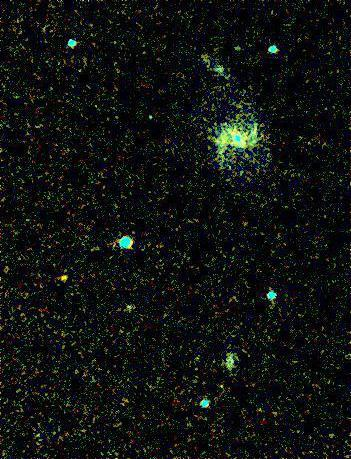star: (49, 263, 79, 293)
